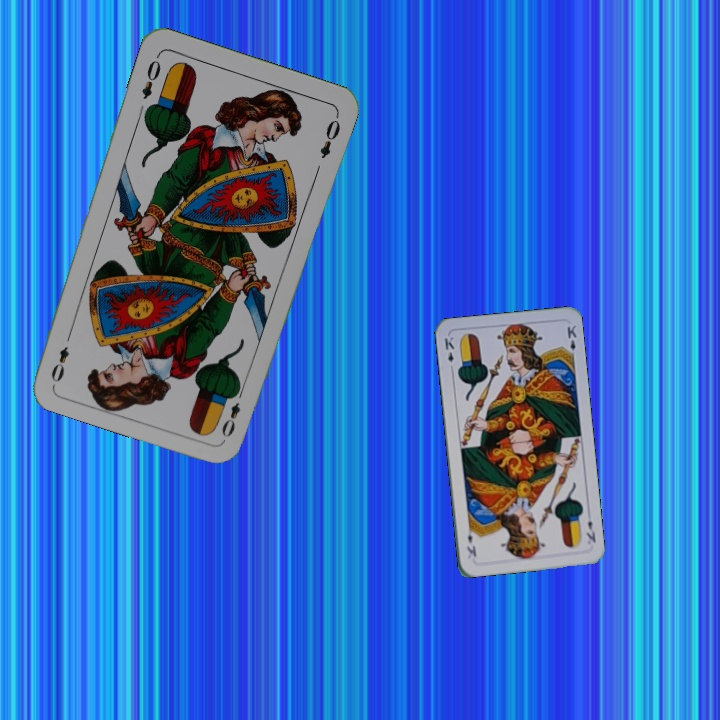EK: (440, 333, 456, 373), (582, 516, 598, 545)
EO: (217, 384, 247, 440), (137, 51, 164, 102)
